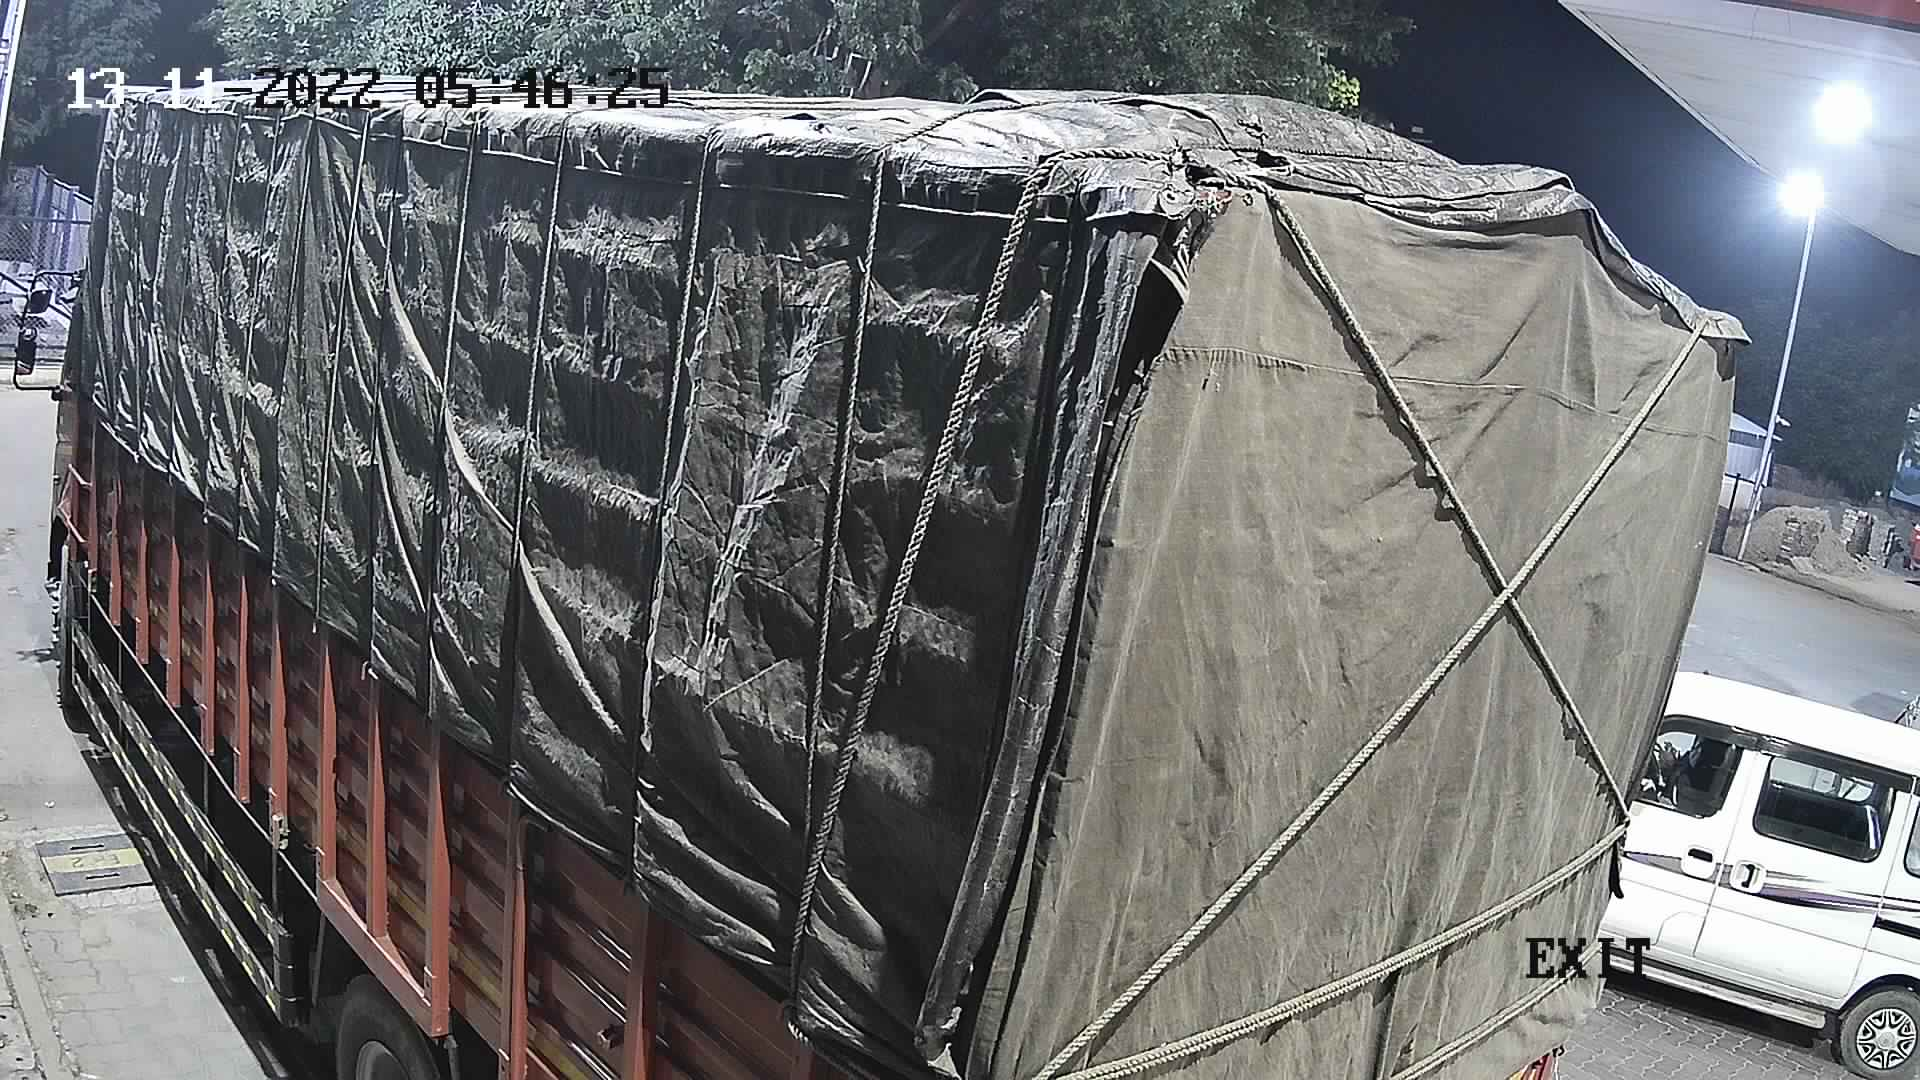Car: (1586, 661, 1917, 1076)
HMV: (4, 50, 1764, 1076)
